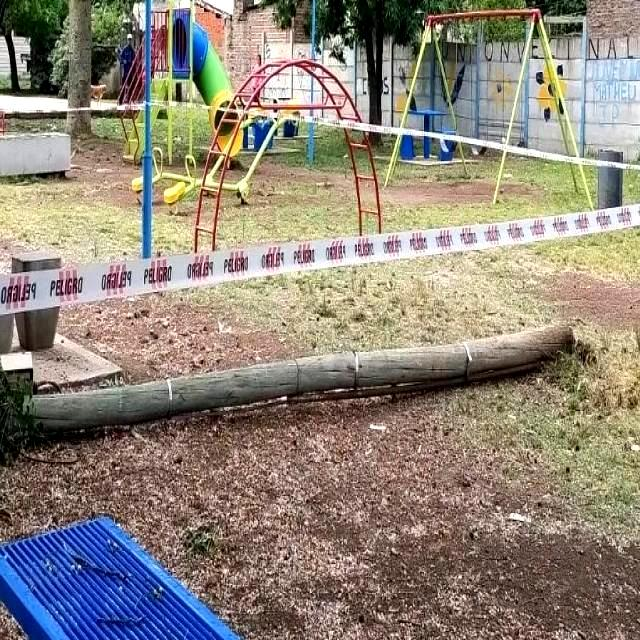Broken Pole: (23, 323, 576, 435)
